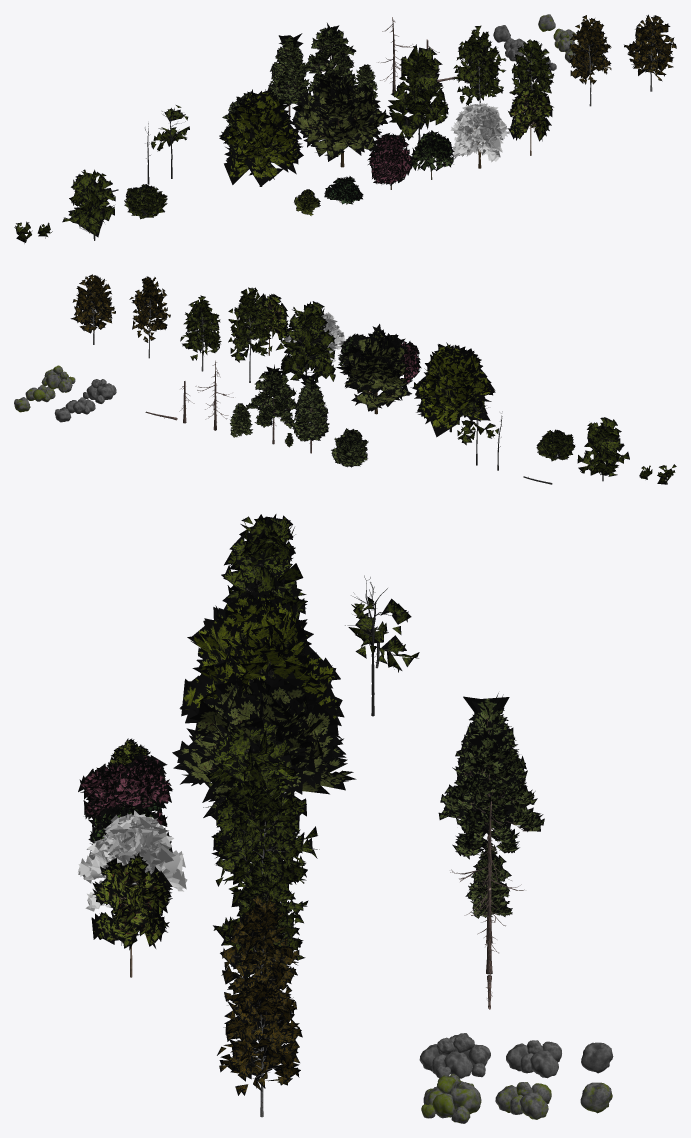
3 views of the same model, one above another, from view 1: azimuth 30°, elevation 25°; view 2: azimuth 150°, elevation 25°; view 3: azimuth 270°, elevation 25° (orthographic). The views are drawn at different scales.
Visible parts, largest first — view 1: Oak_25, Maple_24, Birch3_26, Birch2_21, AppleTree_0, DeciduousShrub2_31, BirchOrange2_23, PineTree_19, FirTree_17, BirchOrange1_22, PlumTree_3, Birch1_20 (+8 smaller); view 2: Maple_24, Oak_25, Birch3_26, Birch2_21, PineTree_19, DeciduousShrub2_31, FirTree_17, BirchOrange2_23, Birch1_20, BirchOrange1_22, ConiferousShrub_16, AshTree_1 (+9 smaller); view 3: Oak_25, Maple_24, PineTree_19, Birch2_21, BirchOrange2_23, Birch3_26, AshTree_1, DeciduousShrub2_31, BirchOrange1_22, AppleTree_0, PlumTree_3, Birch1_20 (+8 smaller).
Part boxes in pixels (x1=…): Oak_25: x1=291, y1=73, x2=390, y2=167; Maple_24: x1=219, y1=89, x2=303, y2=186; Birch3_26: x1=387, y1=44, x2=448, y2=140; Birch2_21: x1=453, y1=25, x2=506, y2=105; AppleTree_0: x1=450, y1=103, x2=510, y2=168; DeciduousShrub2_31: x1=62, y1=169, x2=115, y2=240; BirchOrange2_23: x1=624, y1=14, x2=676, y2=91; PineTree_19: x1=304, y1=23, x2=357, y2=91; FirTree_17: x1=268, y1=33, x2=310, y2=118; BirchOrange1_22: x1=569, y1=15, x2=611, y2=106; PlumTree_3: x1=367, y1=133, x2=413, y2=189; Birch1_20: x1=509, y1=39, x2=554, y2=96; Maple_24: x1=410, y1=342, x2=495, y2=437; Oak_25: x1=335, y1=324, x2=411, y2=414; Birch3_26: x1=276, y1=301, x2=335, y2=385; Birch2_21: x1=228, y1=287, x2=272, y2=382; PineTree_19: x1=246, y1=364, x2=296, y2=444; DeciduousShrub2_31: x1=577, y1=417, x2=629, y2=481; FirTree_17: x1=291, y1=372, x2=329, y2=453; BirchOrange2_23: x1=70, y1=274, x2=115, y2=344; Birch1_20: x1=180, y1=295, x2=221, y2=371; BirchOrange1_22: x1=129, y1=276, x2=170, y2=358; ConiferousShrub_16: x1=331, y1=428, x2=368, y2=467; AshTree_1: x1=254, y1=293, x2=290, y2=355; Oak_25: x1=172, y1=671, x2=356, y2=825; Maple_24: x1=179, y1=590, x2=344, y2=738; PineTree_19: x1=438, y1=729, x2=544, y2=859; Birch2_21: x1=215, y1=770, x2=309, y2=915; BirchOrange2_23: x1=217, y1=973, x2=302, y2=1117; Birch3_26: x1=205, y1=718, x2=319, y2=865; AshTree_1: x1=91, y1=852, x2=172, y2=977; DeciduousShrub2_31: x1=221, y1=514, x2=307, y2=618; BirchOrange1_22: x1=220, y1=895, x2=299, y2=1014; AppleTree_0: x1=78, y1=810, x2=187, y2=911; PlumTree_3: x1=78, y1=753, x2=172, y2=826; Birch1_20: x1=213, y1=862, x2=305, y2=977.
Size of the model in its own units: 145 by 24.98 by 55.87.
